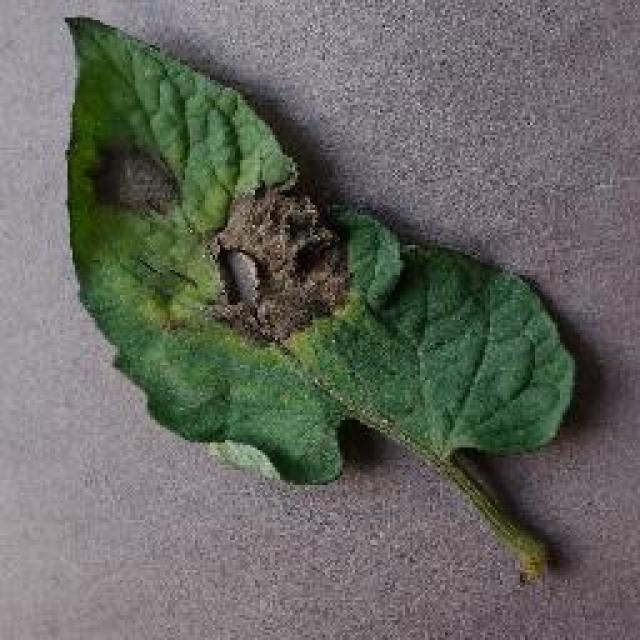Tomato late blight leaf: (64, 10, 578, 492)
